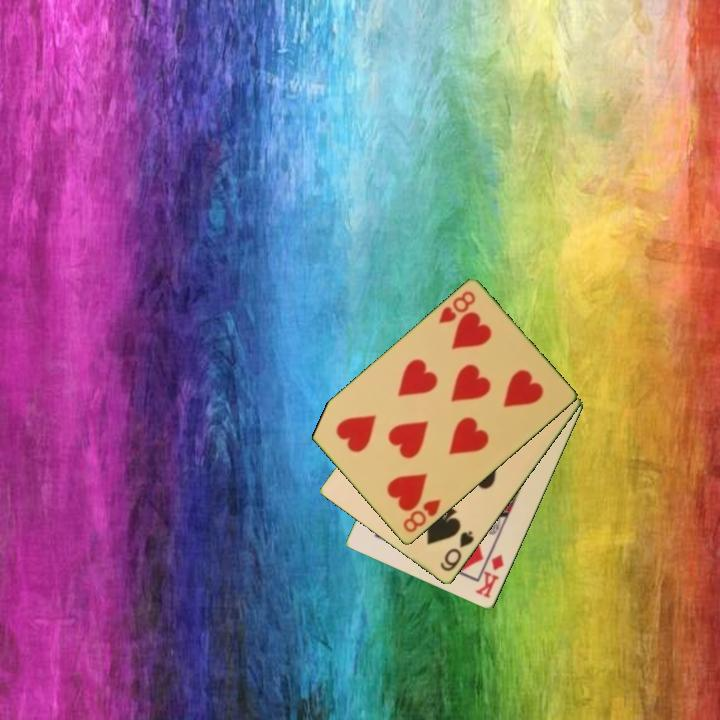6s: (436, 527, 477, 575)
8h: (399, 496, 444, 536), (435, 287, 479, 327)
Kd: (472, 551, 507, 601)
